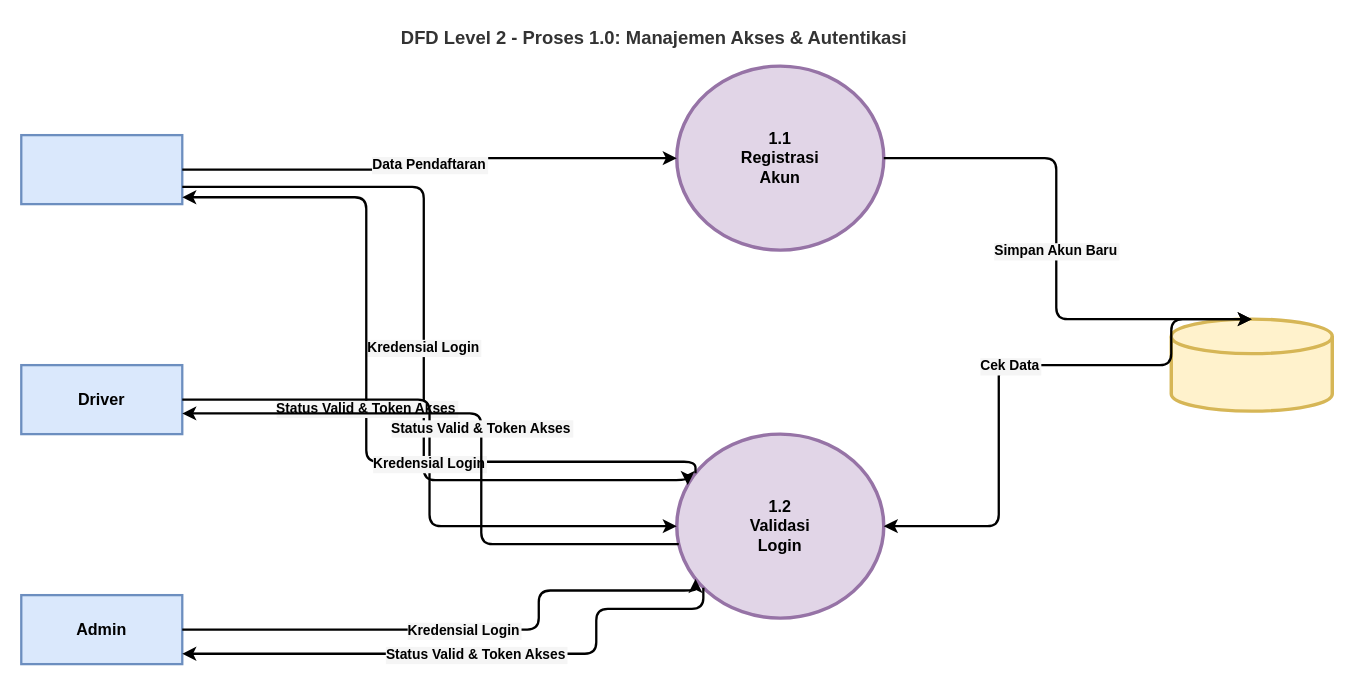
The diagram is 1354 pixels wide and 684 high, and some of its shapes have lost their labels. The shapes that lost their labels are listed below. From the top down, each one's centre as x and y in pixels, then its label:
(x=101, y=169): Customer
(x=1251, y=364): D1: Akun
